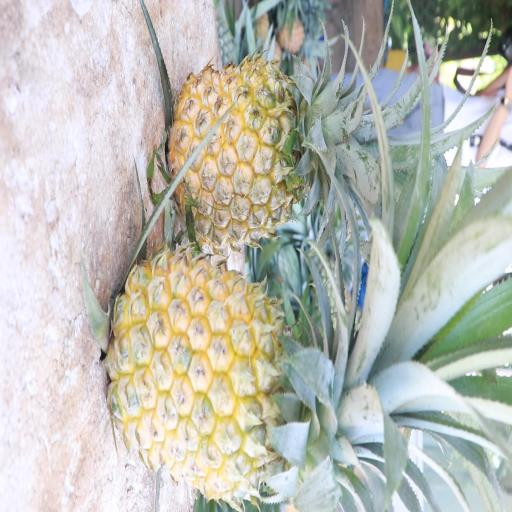Pineapple - v8 v1: (102, 241, 388, 503), (162, 50, 362, 257), (216, 154, 226, 158), (223, 112, 232, 112)
